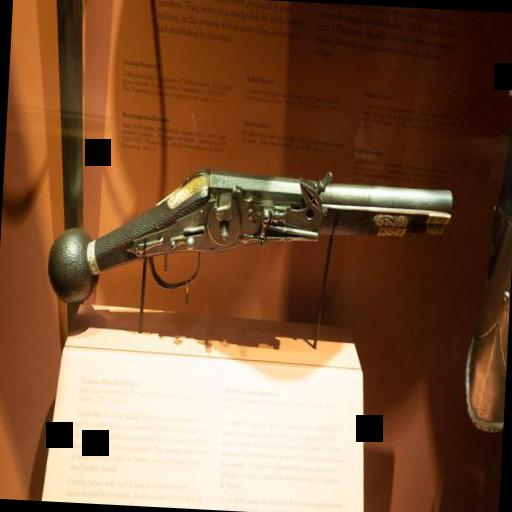Handgun: (40, 146, 457, 332)
